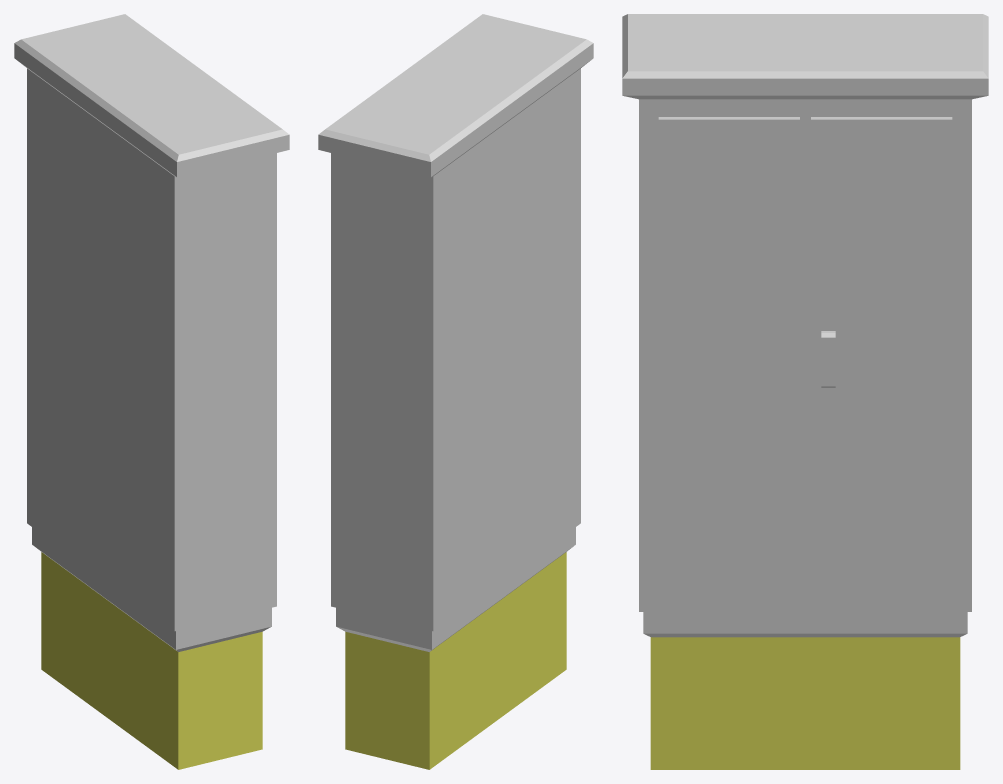
File: utility2.fbx
The picture shows the model from 3 angles, left to right: view 1: azimuth 30°, elevation 25°; view 2: azimuth 150°, elevation 25°; view 3: azimuth 270°, elevation 25°; orthographic projection. The views are drawn at different scales.
Parts seen in each view (by area): view 1: ElectricPanel A; view 2: ElectricPanel A; view 3: ElectricPanel A.
Boxes of the visible parts, left/top/right/bottom form: ElectricPanel A: left=14, top=14, right=289, bottom=769; ElectricPanel A: left=318, top=14, right=593, bottom=769; ElectricPanel A: left=622, top=14, right=988, bottom=769.
Size of the model in its own units: 46.52 by 233 by 110.
